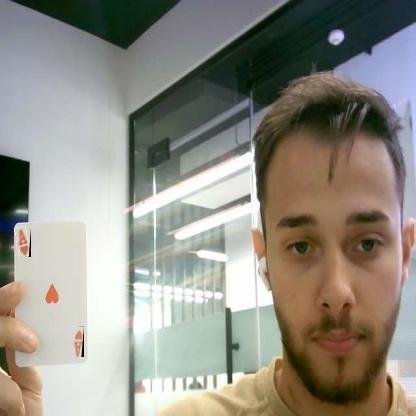AH: (16, 227, 31, 257), (74, 326, 84, 357)
